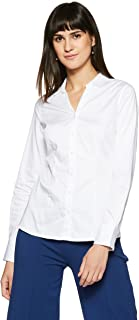shirt: (11, 73, 138, 249)
